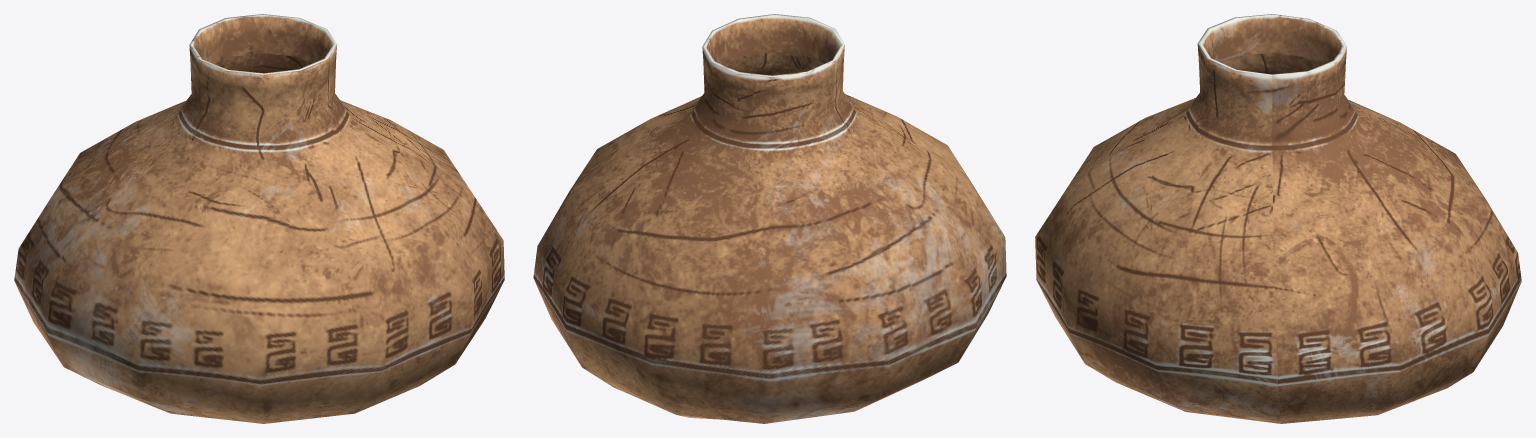
The model's file is LI_TEMP_Vase.FBX.
3 views of the same model, side by side, from view 1: azimuth 30°, elevation 25°; view 2: azimuth 150°, elevation 25°; view 3: azimuth 270°, elevation 25° (orthographic). The views are drawn at different scales.
Visible parts, largest first — view 1: LI_TEMP_Vase_LOD0; view 2: LI_TEMP_Vase_LOD0; view 3: LI_TEMP_Vase_LOD0.
Boxes of the visible parts, x1,y1,x2,y2 form: LI_TEMP_Vase_LOD0: [14, 14, 504, 423]; LI_TEMP_Vase_LOD0: [533, 14, 1006, 423]; LI_TEMP_Vase_LOD0: [1035, 14, 1521, 423].
Size of what is drawn, in the model's own units: 33.86 by 24.64 by 33.83.
Materials: 1 (1 with a texture image).
